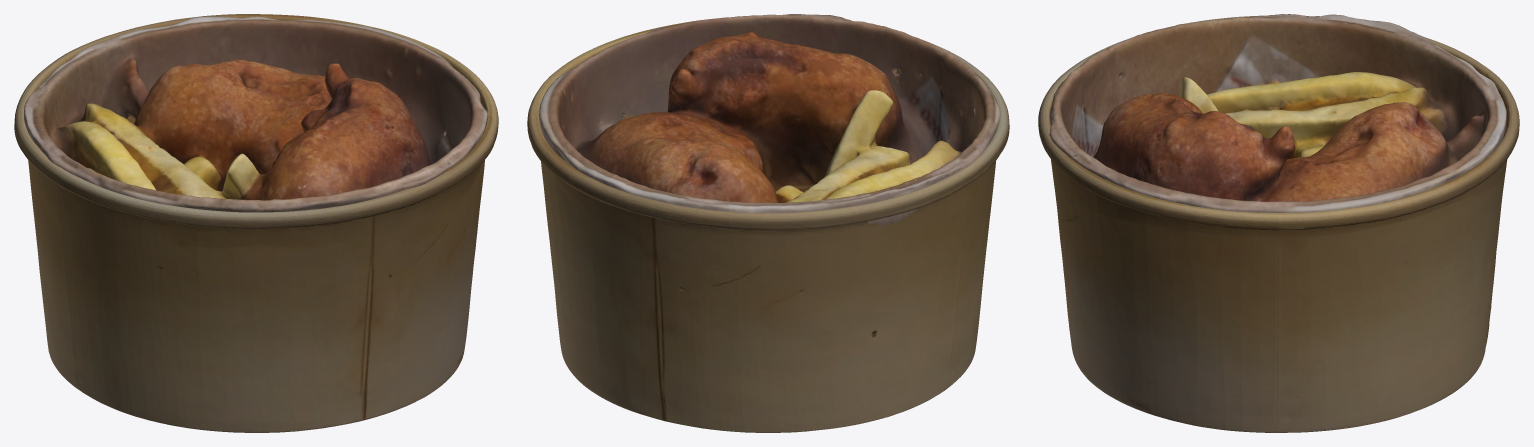
The model's file is chini,bowl.glb.
The picture shows the model from 3 angles, left to right: view 1: azimuth 30°, elevation 25°; view 2: azimuth 150°, elevation 25°; view 3: azimuth 270°, elevation 25°; orthographic projection.
Visible parts, largest first — view 1: world.001, 3DModel.001; view 2: world.001, 3DModel.001; view 3: world.001, 3DModel.001.
Part boxes in pixels (left/top/right/bottom): world.001: left=14, top=14, right=498, bottom=432; 3DModel.001: left=24, top=16, right=487, bottom=212; world.001: left=527, top=18, right=1009, bottom=432; 3DModel.001: left=539, top=14, right=1000, bottom=225; world.001: left=1038, top=15, right=1519, bottom=432; 3DModel.001: left=1049, top=14, right=1506, bottom=212.
Size of the model in its own units: 0.2265 by 0.1385 by 0.2264.
Materials: 2 (2 with a texture image).
